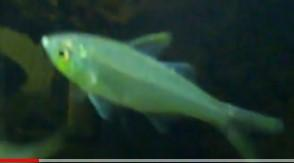Glass Perchlet: (38, 29, 286, 159)
